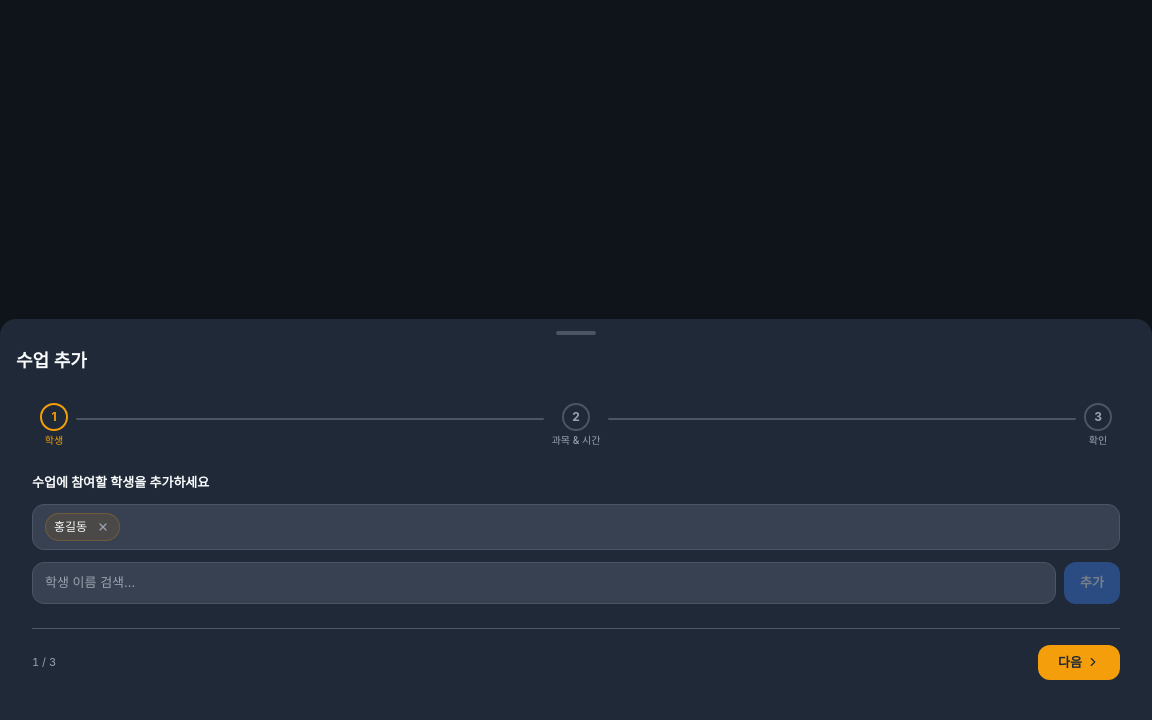
GroupSessionModal - 강사·과목 인라인 추가 › subjectCreateError 있으면 에러 메시지 표시
The width and height of the screenshot is (1152, 720).
Click the button "다음" at point(1079, 662), box [1038,644,1120,680]
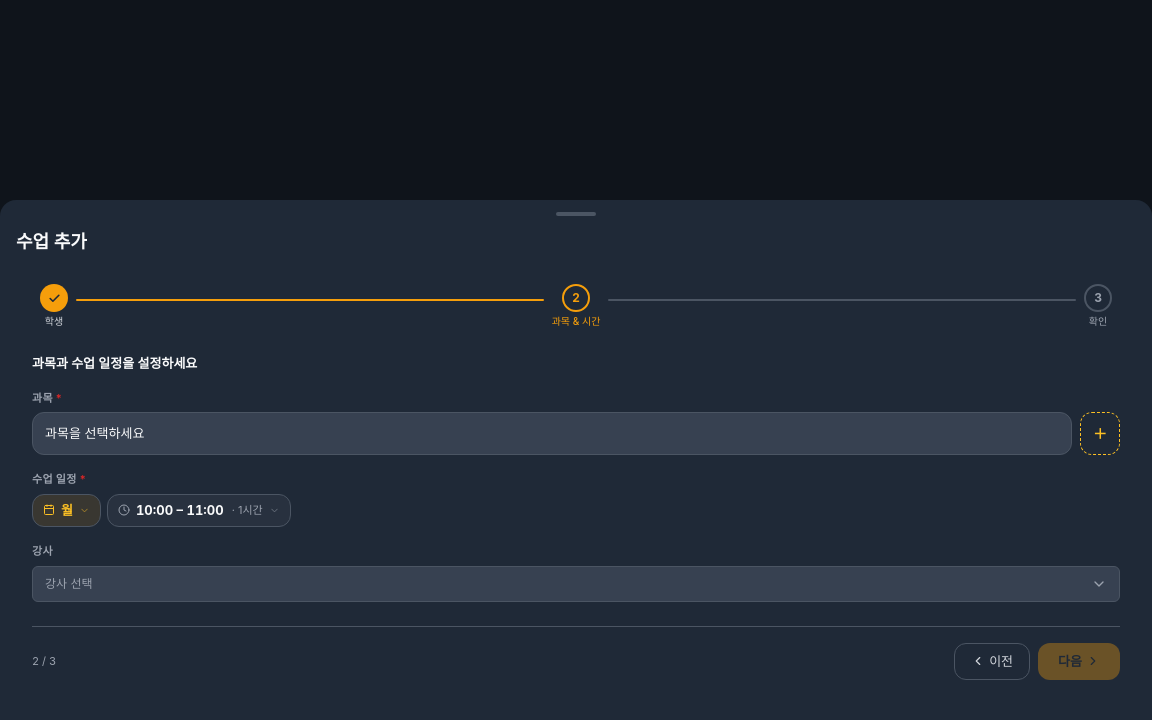
Click the button named "새 과목 추가" at point(1100, 434), box [1080,412,1120,455]
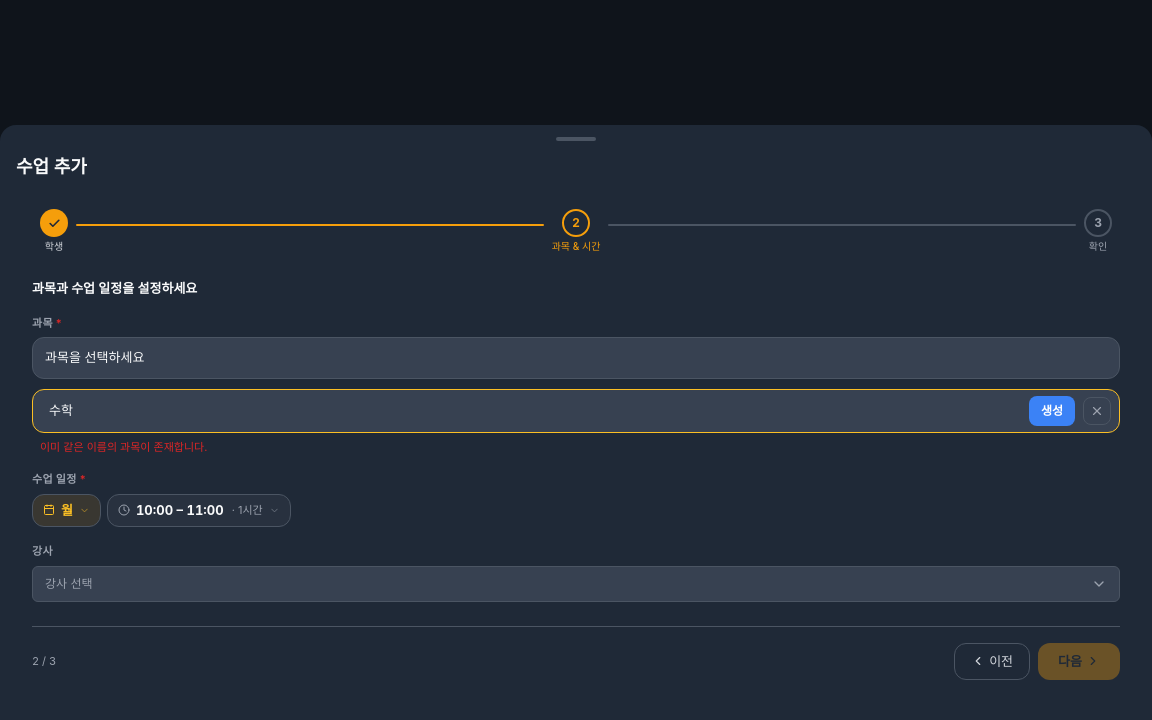
Expected: the text "이미 같은 이름의 과목이 존재합니다." is shown, [40,440,207,454]
